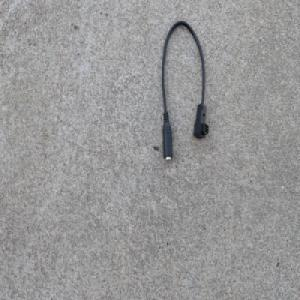Wire: (160, 17, 209, 163)
